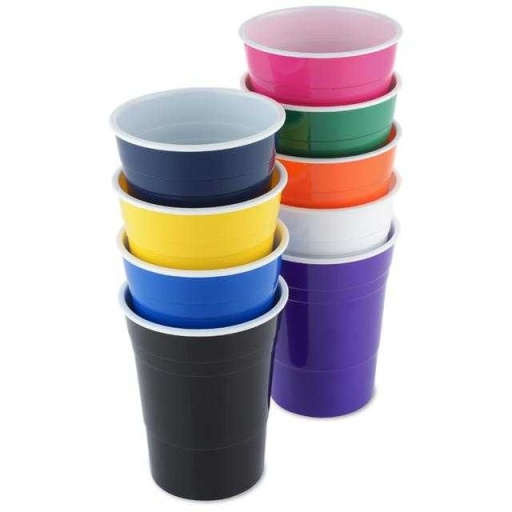cup: (107, 87, 289, 502), (237, 5, 401, 418)
